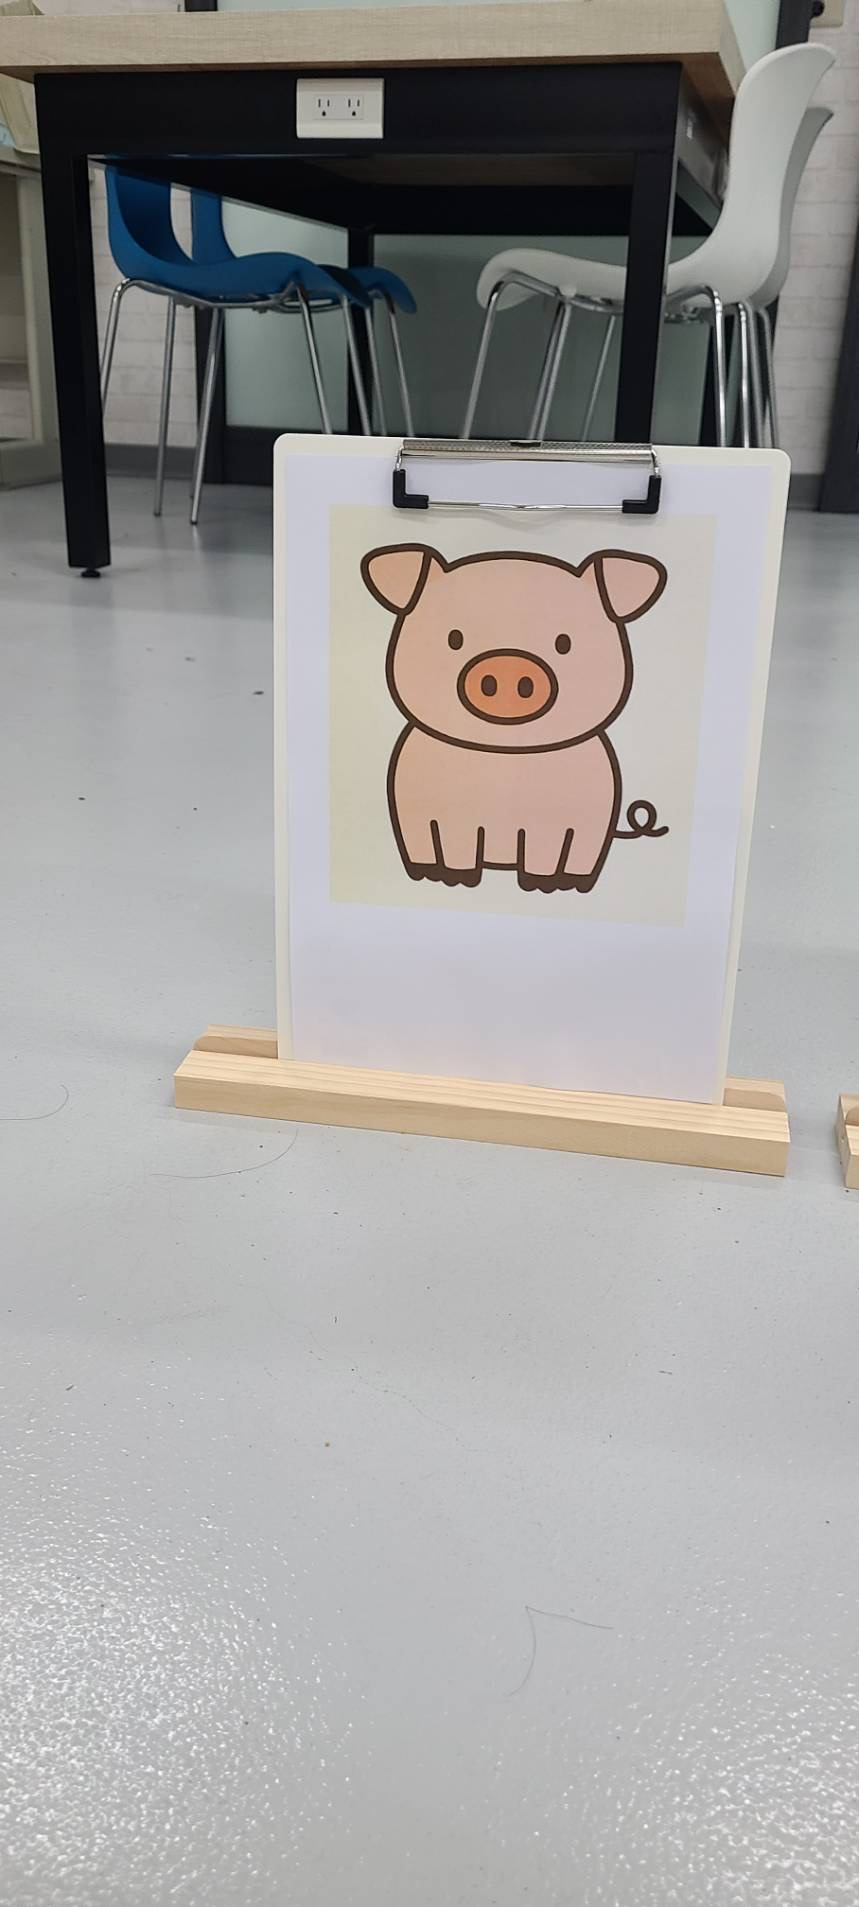pig: (359, 534, 683, 902)
